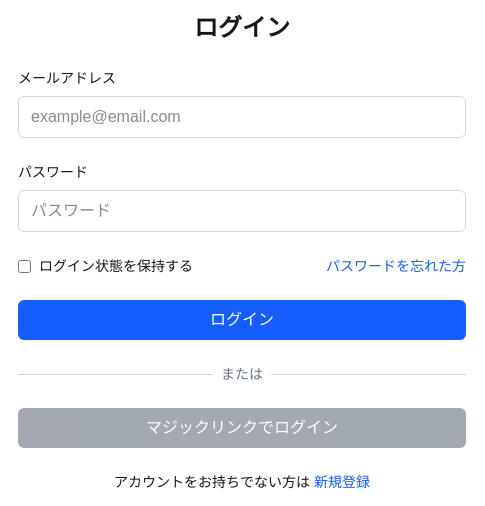
Test: LoginForm › ログイン中はボタンが無効化されること
Type "test@example.com" into the field labelled "メールアドレス".
click(242, 117); type("test@example.com")  # box [18, 96, 466, 138]
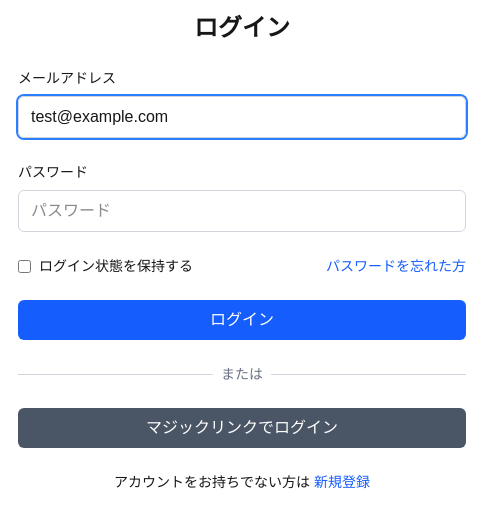
Type "password123" into the password field labelled "パスワード".
click(242, 211); type("password123")  # box [18, 190, 466, 232]
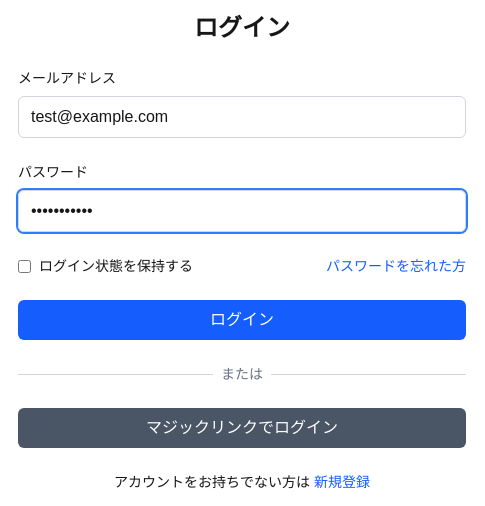
Click the button "ログイン".
click(242, 320)  # box [18, 300, 466, 340]
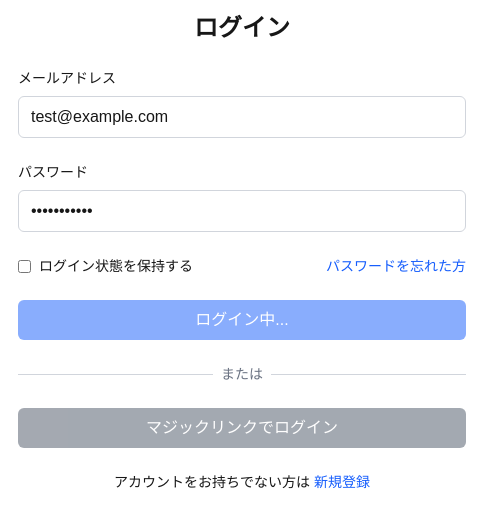
Now the button "ログイン中..." is disabled, box [18, 300, 466, 340]
Now the button "ログイン中..." is shown, box [18, 300, 466, 340]
